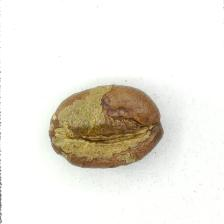NG: (52, 85, 152, 160)
